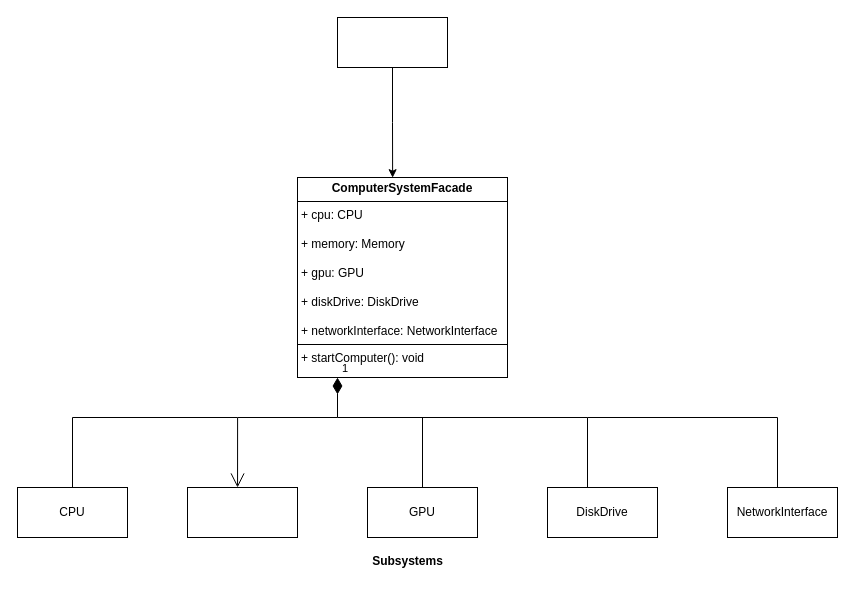
Some shapes in this 855 by 592 pixel diagram are drawn without their labels. The shapes that lost their labels are listed below. From the top down, each one's centre as x and y in pixels, then its label:
At point 392,42: "Client".
At point 242,512: "Memory".
